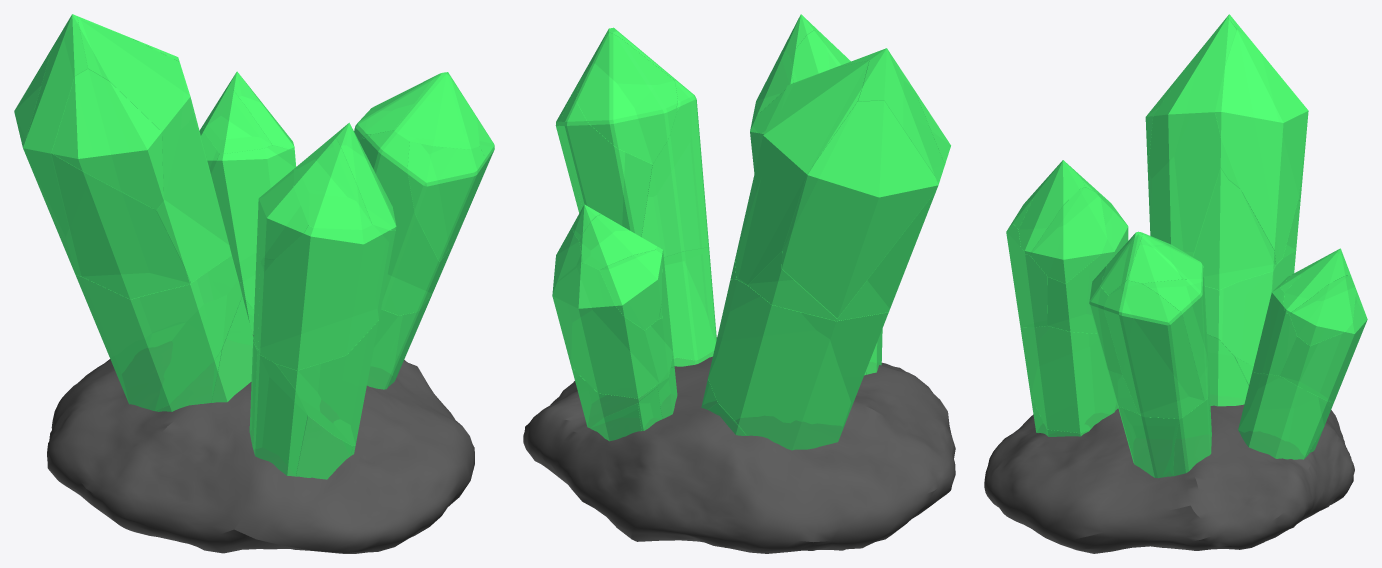
File: crystals-2-green.glb
3 renders of one model, left to right at view 1: azimuth 30°, elevation 25°; view 2: azimuth 150°, elevation 25°; view 3: azimuth 270°, elevation 25°, orthographic. The views are drawn at different scales.
Parts seen in each view (by area): view 1: crystal_2, rock.003, crystal_1, crystal_3, crystal_1.001; view 2: crystal_2, rock.003, crystal_3, crystal_1.001, crystal_1; view 3: crystal_2, rock.003, crystal_3, crystal_1, crystal_1.001.
Boxes of the visible parts, <box> form: crystal_2: <box>14,14,253,411</box>; rock.003: <box>47,335,474,553</box>; crystal_1: <box>249,122,396,479</box>; crystal_3: <box>354,72,494,389</box>; crystal_1.001: <box>199,71,296,334</box>; crystal_2: <box>701,48,950,450</box>; rock.003: <box>523,337,955,553</box>; crystal_3: <box>555,27,716,366</box>; crystal_1.001: <box>552,204,677,441</box>; crystal_1: <box>750,14,882,375</box>; crystal_2: <box>1145,14,1308,406</box>; rock.003: <box>984,404,1354,553</box>; crystal_3: <box>1089,231,1211,478</box>; crystal_1: <box>1006,160,1128,436</box>; crystal_1.001: <box>1238,248,1367,459</box>.
Size of the model in its own units: 6.55 by 7.54 by 6.18.
